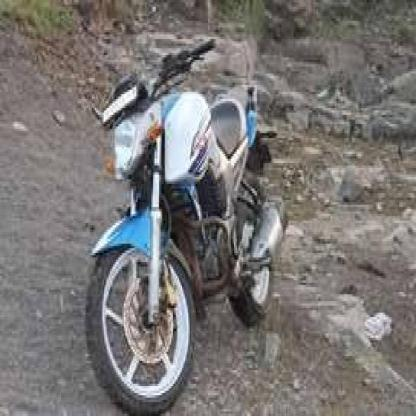bike: (84, 37, 290, 410)
